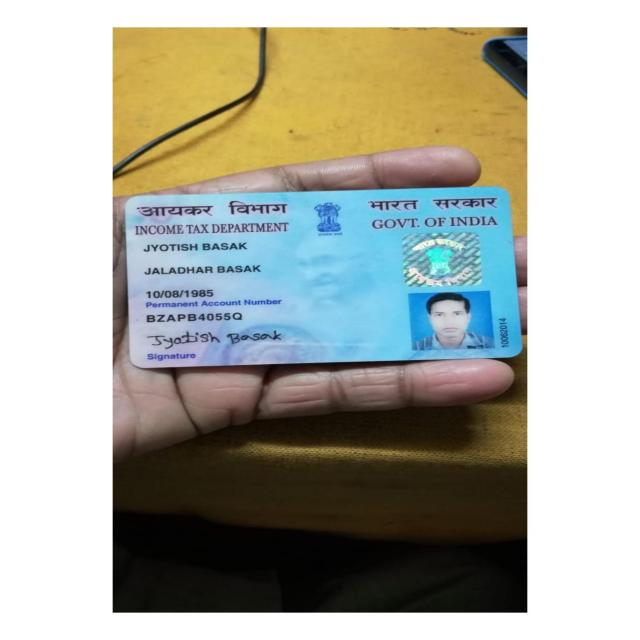pan_card: (125, 187, 515, 371)
